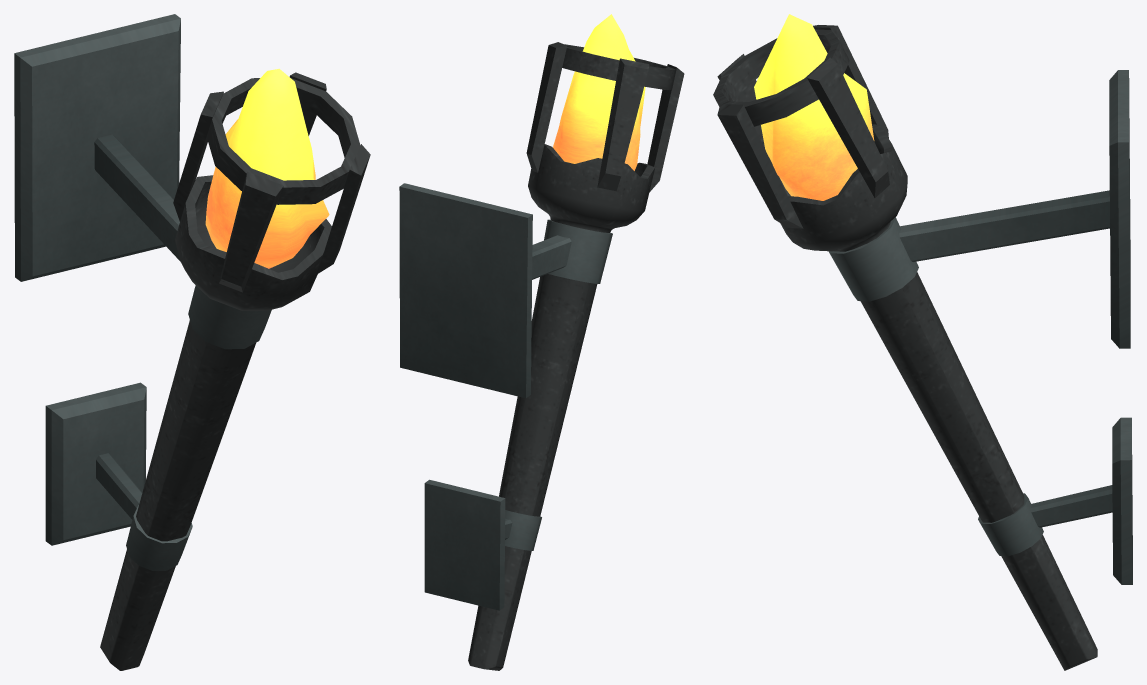
The model's file is HeldLamp.fbx.
3 views of the same model, side by side, from view 1: azimuth 30°, elevation 25°; view 2: azimuth 150°, elevation 25°; view 3: azimuth 270°, elevation 25° (orthographic). The views are drawn at different scales.
Visible parts, largest first — view 1: HeldLamp, LampFlame; view 2: HeldLamp, LampFlame; view 3: HeldLamp, LampFlame.
Part boxes in pixels (x1,y1,x2,y2): HeldLamp: (14,14,370,670); LampFlame: (205,68,329,268); HeldLamp: (399,42,684,670); LampFlame: (553,14,645,170); HeldLamp: (713,25,1132,670); LampFlame: (754,14,874,200).
Bounding box in the file's own units: 19.44 × 82.02 × 47.79.
